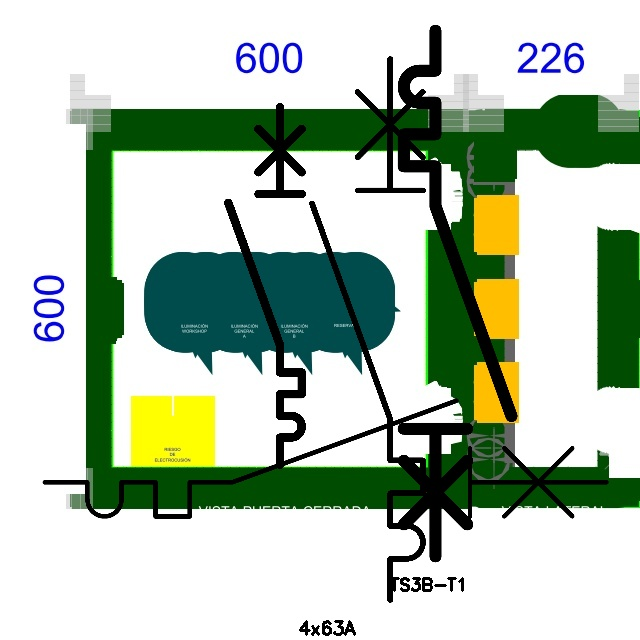interruptor_termomagnetico: (30, 386, 621, 531), (298, 45, 437, 614), (390, 17, 525, 570), (219, 98, 311, 474)
